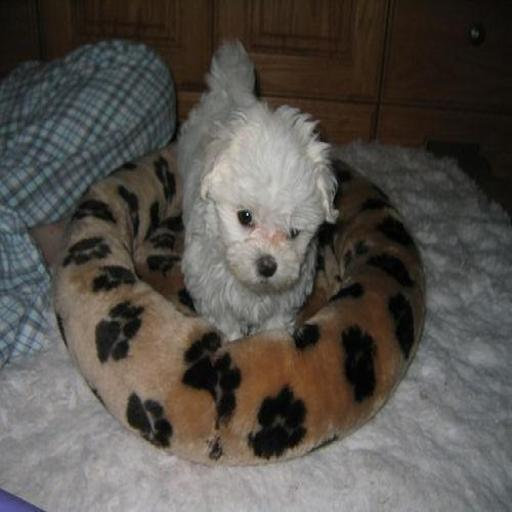dog_face: (210, 107, 335, 292)
